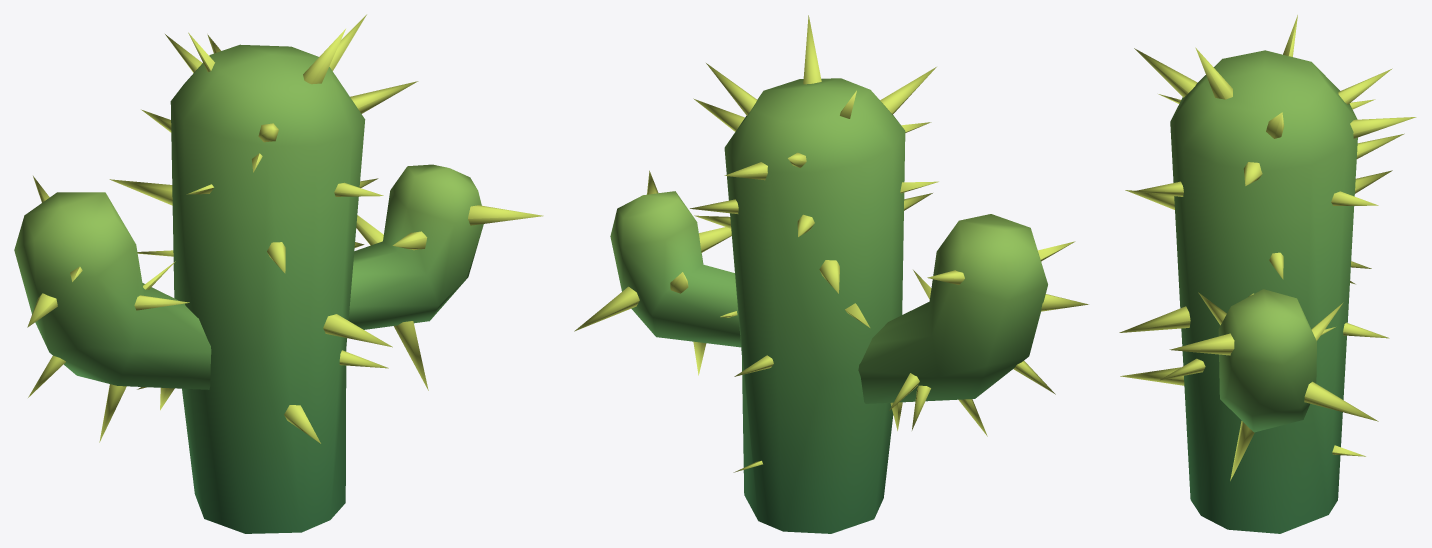
Rendered from cactusLarge.glb.
The picture shows the model from 3 angles, left to right: view 1: azimuth 30°, elevation 25°; view 2: azimuth 150°, elevation 25°; view 3: azimuth 270°, elevation 25°; orthographic projection. The views are drawn at different scales.
Parts seen in each view (by area): view 1: cactusLarge; view 2: cactusLarge; view 3: cactusLarge.
Part boxes in pixels (x1,y1,x2,y2): cactusLarge: (14,14,543,533); cactusLarge: (574,15,1088,533); cactusLarge: (1119,15,1416,533).
Size of the model in its own units: 0.7539 by 0.7144 by 0.4081.
1 material, 1 textured.
